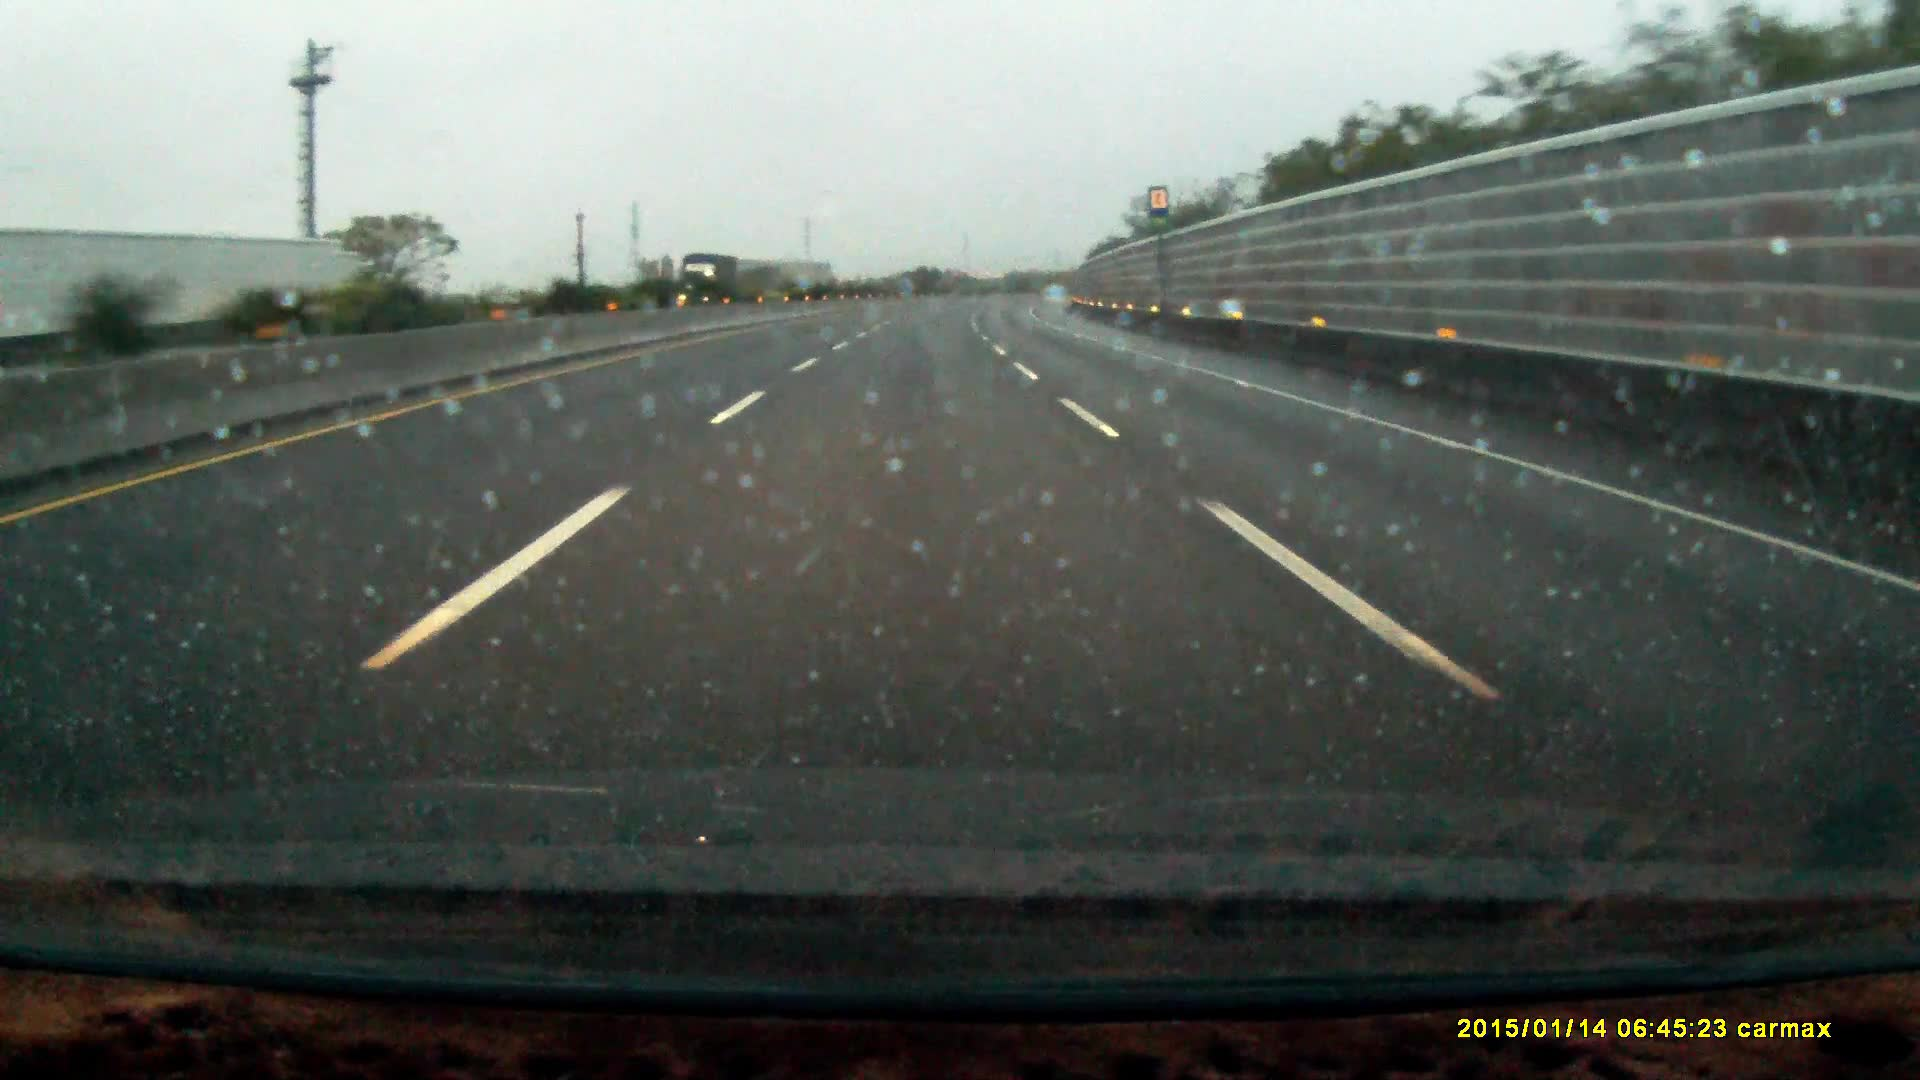vehicle: (680, 252, 738, 302)
